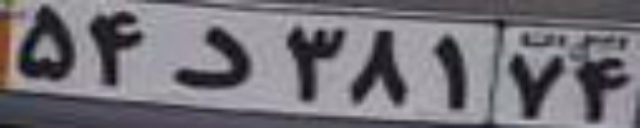1: (431, 34, 468, 109)
3: (283, 25, 347, 102)
4: (87, 11, 148, 84), (576, 56, 629, 122)
5: (16, 3, 74, 79)
7: (508, 53, 566, 119)
8: (347, 28, 408, 106)
dal: (172, 26, 253, 88)
